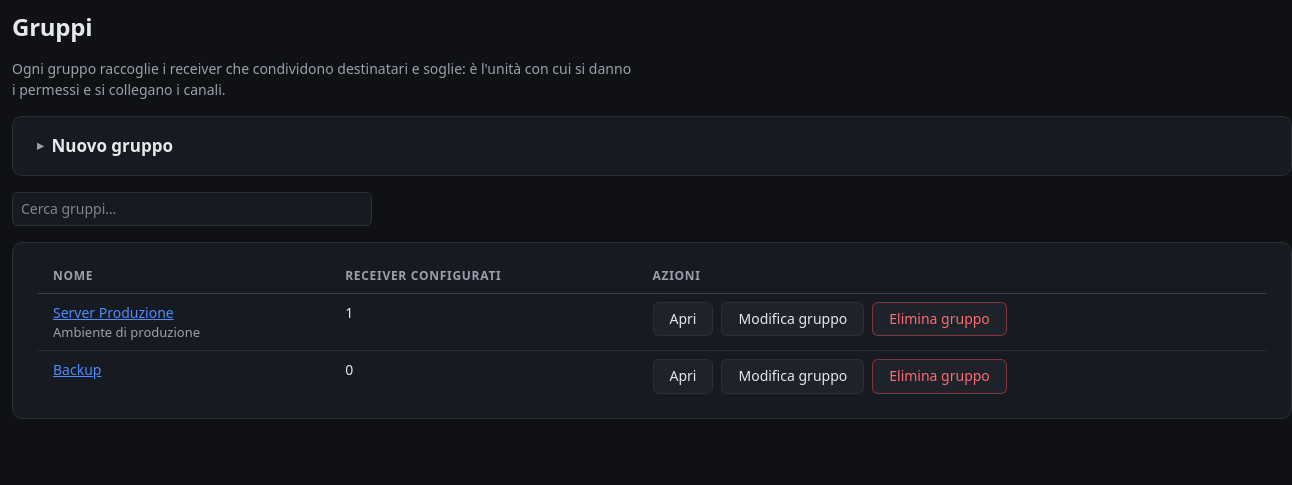
Test: GroupsPage › T-DEL4 un errore nel caricare l'impatto non spinge fuori la colonna delle azioni
This screenshot has width=1292, height=485.
Expected: the link "Server Produzione" is shown, 53,302 -> 174,322
Step 1. Click the button "Elimina gruppo" in the row of "Server Produzione" → click(940, 319), box 872,302 -> 1007,336
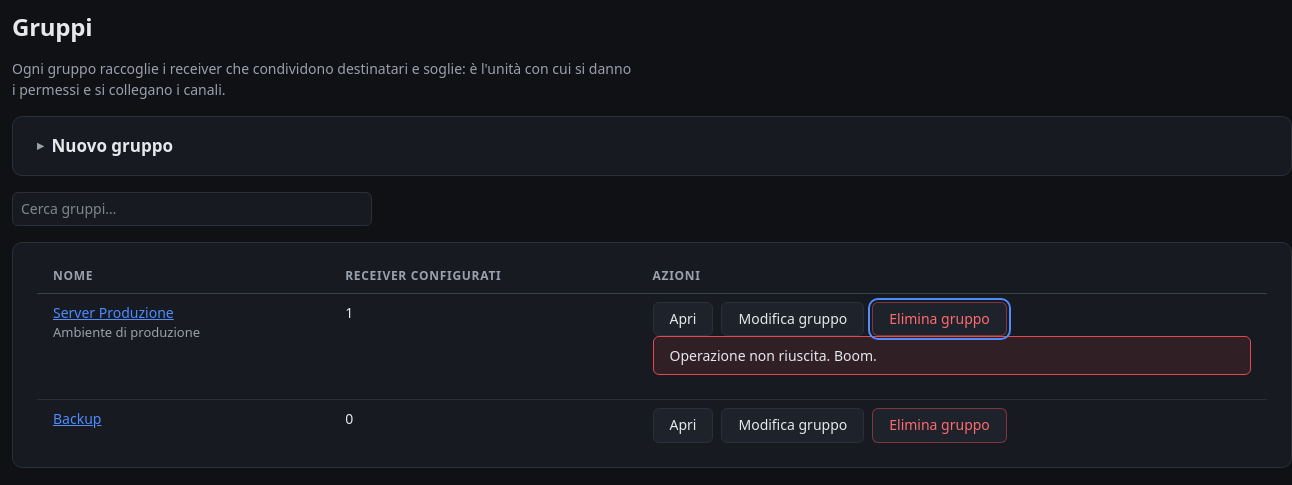
Expected: the message "Operazione non riuscita. Boom." is shown, 652,336 -> 1251,375
